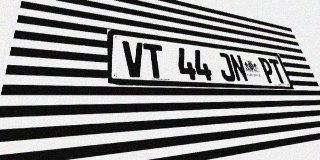4: (175, 47, 197, 80), (191, 49, 213, 81)
J: (215, 52, 237, 82)
N: (229, 54, 249, 82)
P: (258, 57, 277, 83)
T: (143, 43, 166, 79), (268, 59, 287, 84)
V: (122, 40, 146, 78)
